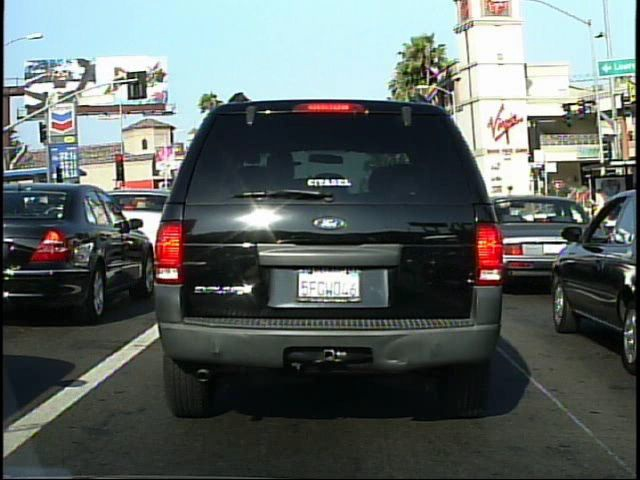person: (589, 184, 610, 245)
